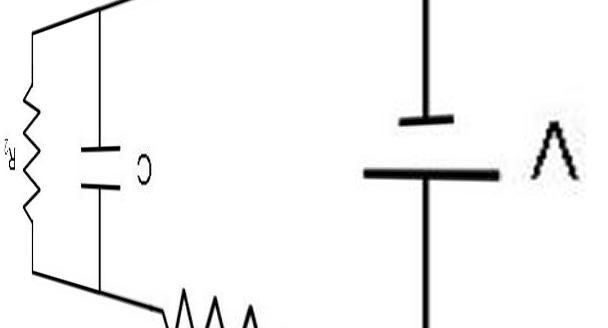resistor: (17, 75, 52, 208)
